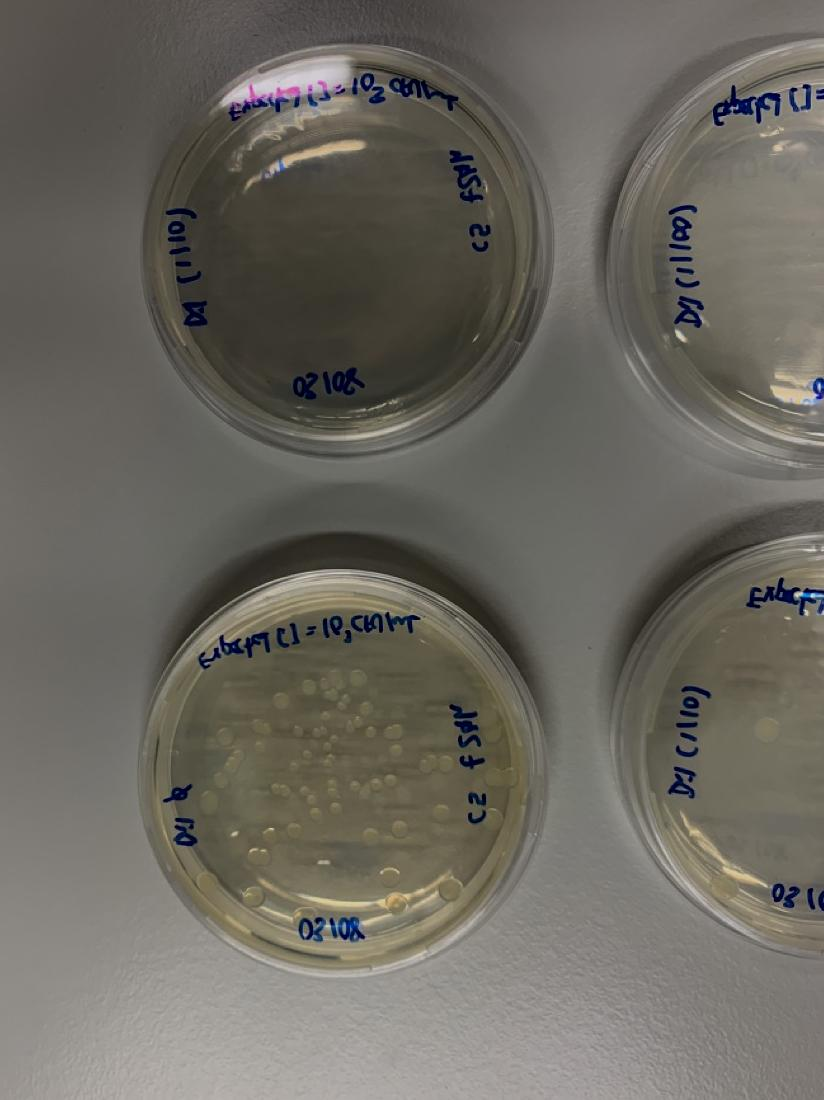colony: (707, 871, 739, 904), (751, 714, 781, 745), (477, 708, 502, 744), (485, 767, 517, 789), (291, 906, 319, 931), (438, 877, 464, 903), (242, 885, 266, 910), (197, 871, 220, 895), (385, 893, 409, 915), (482, 807, 503, 832), (225, 748, 245, 774), (379, 866, 402, 888), (200, 791, 219, 815), (215, 727, 235, 748), (248, 848, 271, 866), (348, 669, 368, 688), (419, 754, 437, 774), (433, 804, 451, 824), (362, 828, 379, 848), (391, 819, 408, 839), (251, 719, 271, 736), (272, 692, 290, 710), (384, 723, 403, 740), (437, 754, 454, 772), (301, 679, 317, 696), (262, 827, 277, 845), (271, 783, 290, 797), (213, 773, 229, 789), (359, 701, 374, 716), (287, 823, 301, 839), (388, 745, 402, 758), (384, 774, 398, 787), (348, 780, 362, 793), (329, 803, 343, 816), (310, 807, 323, 821), (324, 689, 339, 701), (370, 778, 383, 791), (365, 726, 377, 739), (292, 726, 304, 738), (254, 742, 266, 754), (353, 717, 364, 729), (320, 678, 330, 691), (336, 700, 347, 711), (320, 710, 331, 721), (306, 794, 317, 805), (345, 722, 355, 734), (299, 786, 309, 798), (327, 788, 339, 798), (321, 743, 331, 754), (318, 725, 328, 735), (329, 734, 339, 744), (311, 728, 320, 739), (342, 694, 351, 704), (303, 750, 312, 759)
